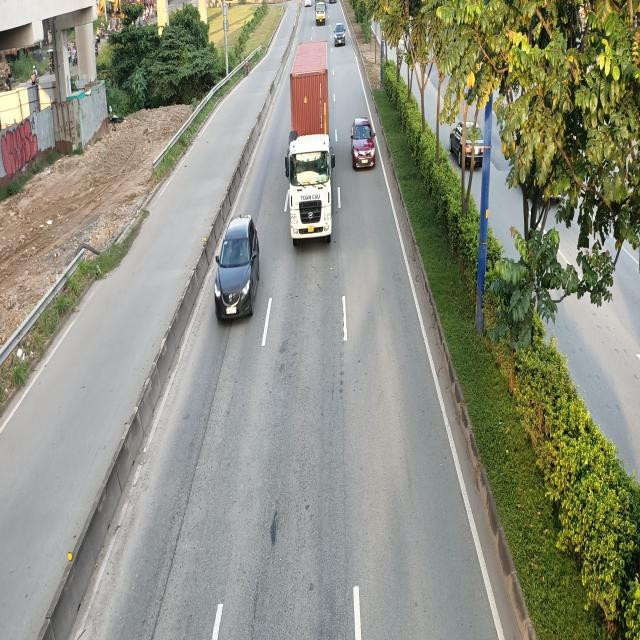car: (213, 218, 258, 323), (350, 117, 376, 170), (334, 24, 347, 48)
container: (282, 41, 334, 243)
